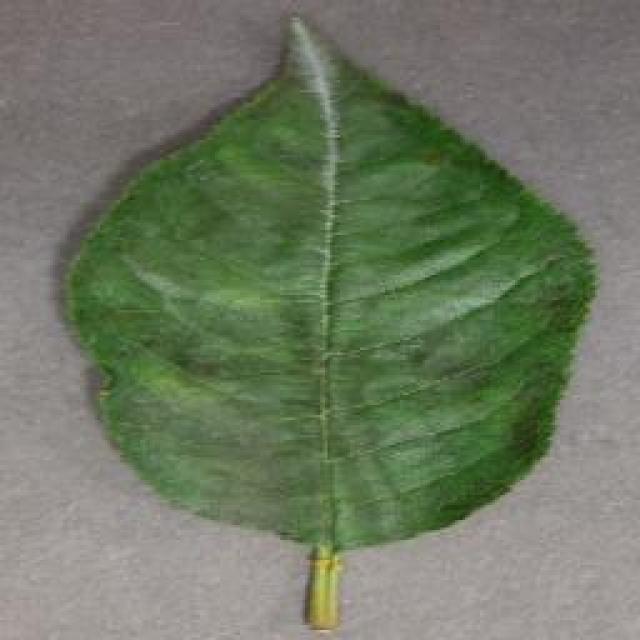Cherry___Powdery_mildew: (48, 2, 608, 638)
